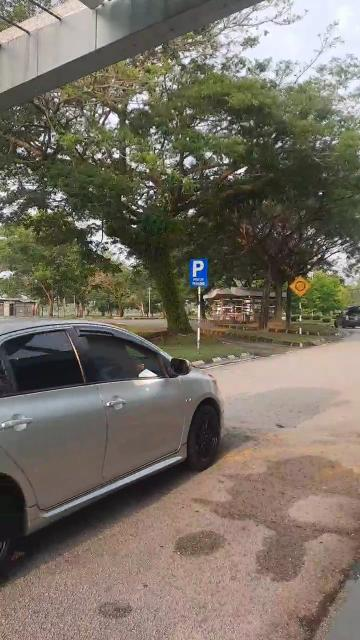car: (2, 315, 233, 566)
